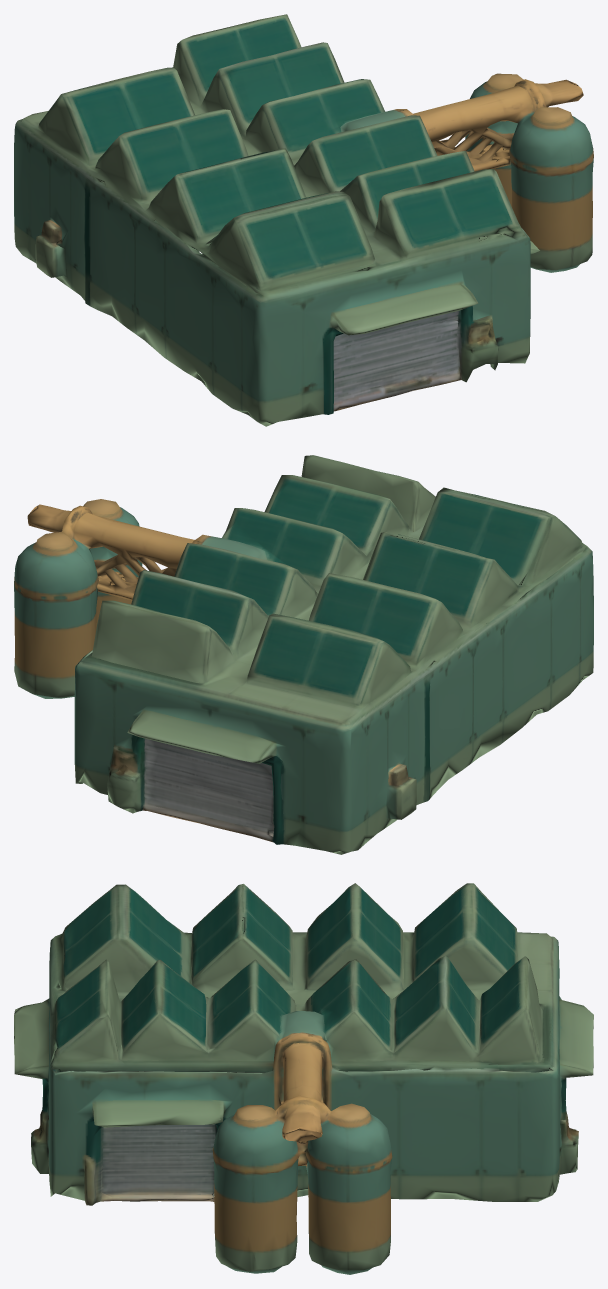
The model's file is angar-s-panelyami.glb.
3 views of the same model, one above another, from view 1: azimuth 30°, elevation 25°; view 2: azimuth 150°, elevation 25°; view 3: azimuth 270°, elevation 25° (orthographic). The views are drawn at different scales.
Visible parts, largest first — view 1: geometry_0; view 2: geometry_0; view 3: geometry_0.
Boxes of the visible parts, x1,y1,x2,y2 form: geometry_0: [14, 14, 593, 426]; geometry_0: [14, 455, 593, 854]; geometry_0: [14, 883, 593, 1274].
Size of the model in its own units: 0.9205 by 0.3581 by 0.9965.
Materials: 1 (1 with a texture image).
